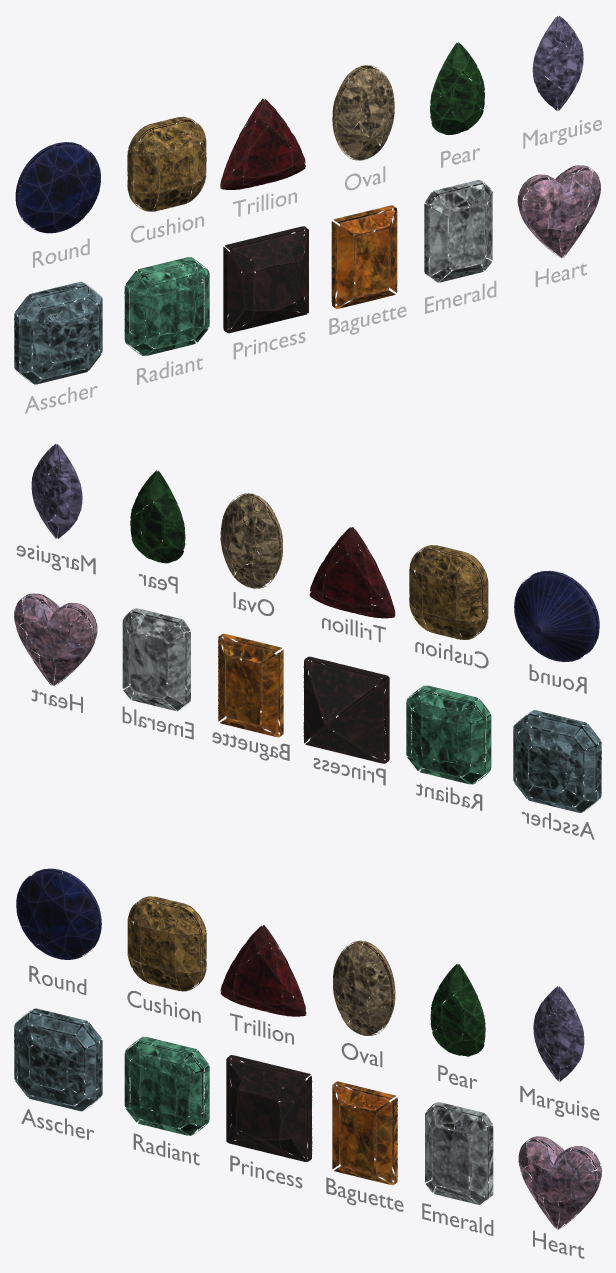
File: Diamond_Shapes.fbx
3 views of the same model, one above another, from view 1: azimuth 30°, elevation 25°; view 2: azimuth 150°, elevation 25°; view 3: azimuth 330°, elevation 25° (orthographic).
Visible parts, largest first — view 1: Plane.007, Plane.005, Plane.004, Plane.002, Plane.006, Plane.008, Plane, Plane.003, Plane.001, Plane.009, Plane.011, Plane.010 (+2 smaller); view 2: Plane.007, Plane.005, Plane.004, Plane.002, Plane.006, Plane.008, Plane, Plane.003, Plane.001, Plane.009, Plane.011, Plane.010 (+3 smaller); view 3: Plane.007, Plane.005, Plane.004, Plane.002, Plane.006, Plane.008, Plane, Plane.003, Plane.001, Plane.009, Plane.011, Plane.010 (+3 smaller).
Part boxes in pixels (x1=…): Plane.007: x1=223, y1=226, x2=308, y2=333; Plane.005: x1=14, y1=281, x2=102, y2=384; Plane.004: x1=124, y1=257, x2=209, y2=355; Plane.002: x1=127, y1=116, x2=206, y2=211; Plane.006: x1=424, y1=180, x2=492, y2=282; Plane.008: x1=15, y1=142, x2=100, y2=233; Plane: x1=331, y1=205, x2=397, y2=308; Plane.003: x1=517, y1=165, x2=600, y2=257; Plane.001: x1=220, y1=98, x2=305, y2=189; Plane.009: x1=332, y1=65, x2=394, y2=160; Plane.011: x1=430, y1=42, x2=484, y2=134; Plane.010: x1=532, y1=16, x2=583, y2=110; Plane.007: x1=303, y1=656, x2=389, y2=763; Plane.005: x1=513, y1=710, x2=601, y2=812; Plane.004: x1=406, y1=685, x2=491, y2=784; Plane.002: x1=409, y1=545, x2=488, y2=639; Plane.006: x1=122, y1=608, x2=190, y2=711; Plane.008: x1=514, y1=570, x2=599, y2=662; Plane: x1=218, y1=633, x2=283, y2=737; Plane.003: x1=14, y1=593, x2=97, y2=686; Plane.001: x1=309, y1=527, x2=395, y2=618; Plane.009: x1=220, y1=493, x2=282, y2=588; Plane.011: x1=130, y1=470, x2=185, y2=563; Plane.010: x1=31, y1=444, x2=82, y2=538; Plane.007: x1=226, y1=1055, x2=312, y2=1161; Plane.005: x1=14, y1=1008, x2=102, y2=1111; Plane.004: x1=124, y1=1036, x2=209, y2=1135; Plane.002: x1=127, y1=896, x2=206, y2=991; Plane.006: x1=425, y1=1102, x2=493, y2=1204; Plane.008: x1=16, y1=868, x2=101, y2=959; Plane: x1=332, y1=1081, x2=397, y2=1185; Plane.003: x1=518, y1=1136, x2=601, y2=1229; Plane.001: x1=220, y1=925, x2=306, y2=1016; Plane.009: x1=333, y1=940, x2=395, y2=1035; Plane.011: x1=430, y1=964, x2=485, y2=1056; Plane.010: x1=533, y1=986, x2=584, y2=1081.
Bounding box in the file's own units: 213 × 93.9 × 21.12.
2 materials, 1 textured.
